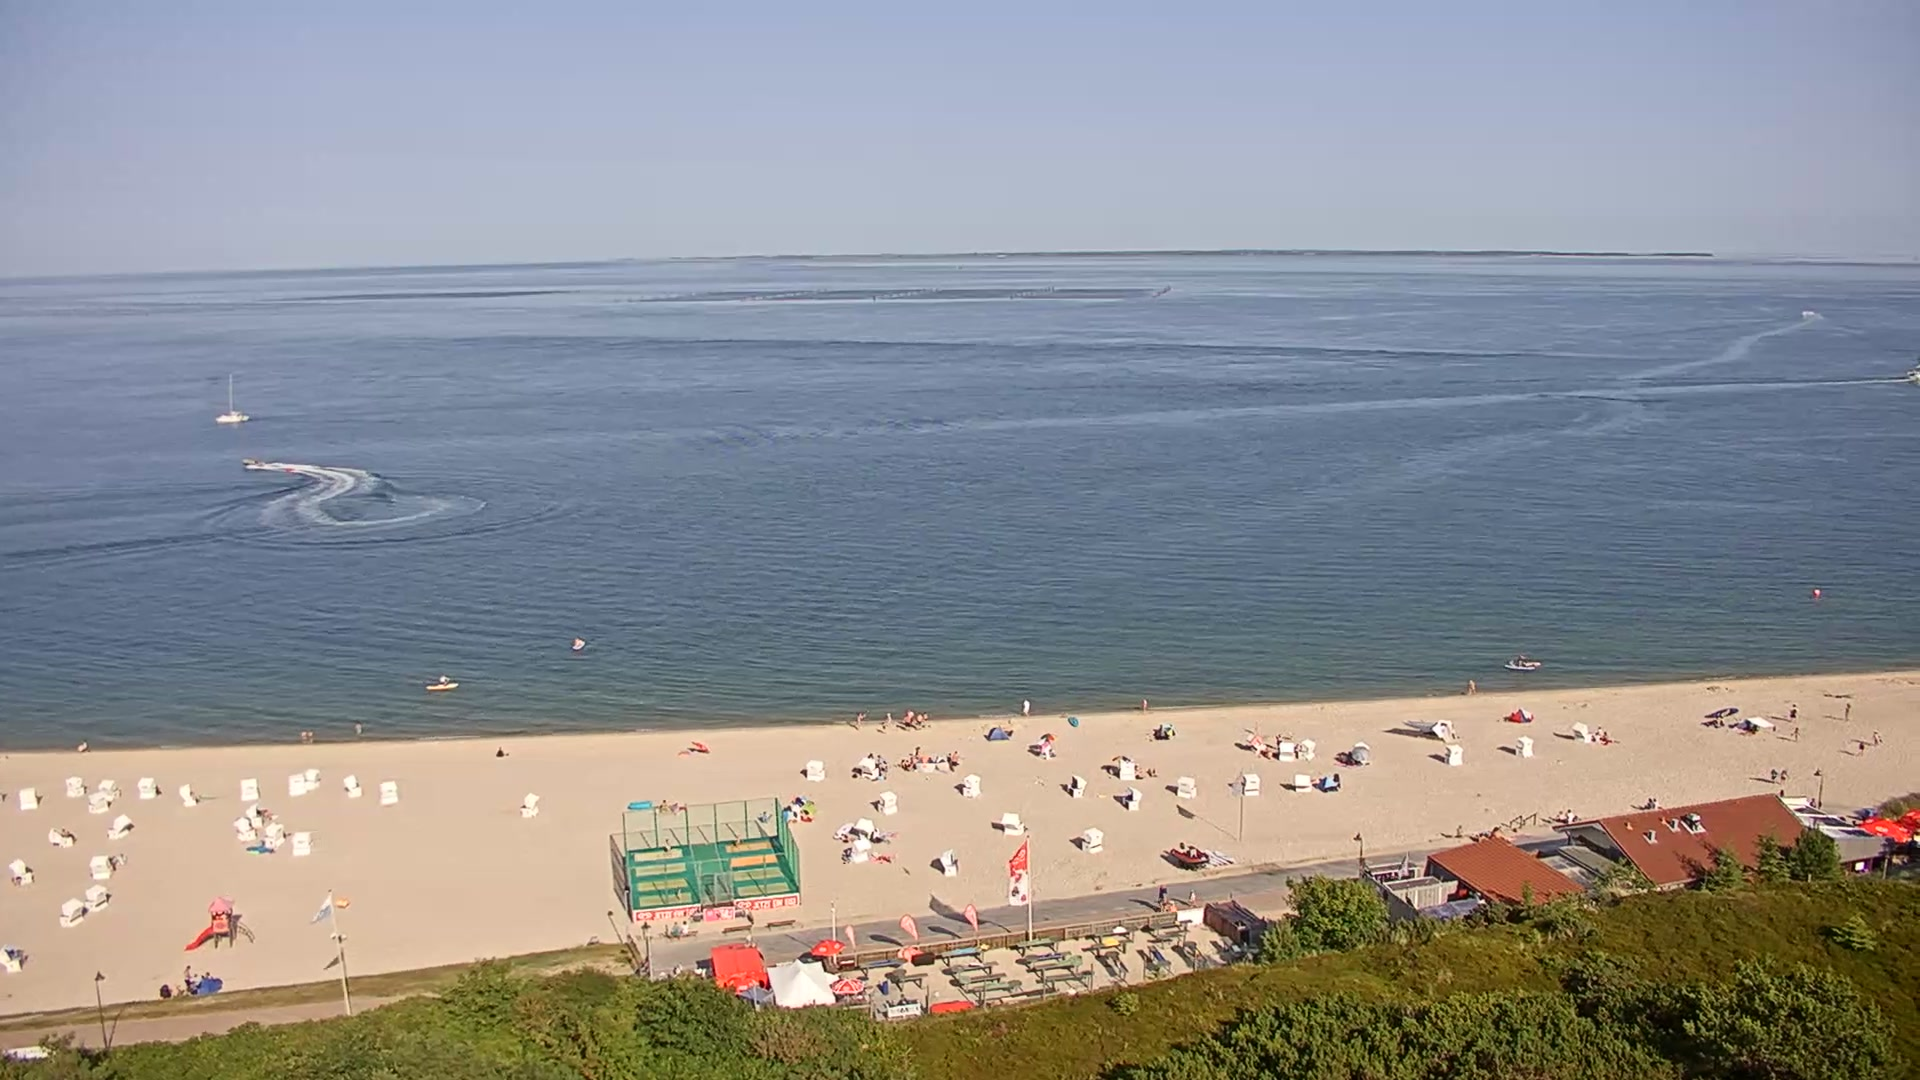human: (182, 962, 192, 991), (1156, 883, 1169, 908), (854, 709, 867, 730), (897, 992, 908, 1013), (903, 708, 916, 727), (874, 753, 883, 779), (881, 711, 893, 731), (1465, 678, 1477, 697), (1788, 701, 1799, 723), (670, 920, 680, 939), (1187, 887, 1197, 906), (1594, 724, 1605, 743), (1856, 739, 1866, 757), (191, 972, 201, 993), (1022, 697, 1031, 717), (1843, 700, 1851, 723), (1790, 727, 1801, 741), (354, 720, 364, 736), (881, 759, 889, 780), (1779, 769, 1789, 784), (1871, 730, 1882, 746), (681, 919, 690, 936), (1140, 696, 1149, 713), (1770, 768, 1779, 785), (76, 738, 88, 752), (1555, 808, 1566, 822), (201, 970, 214, 982), (1565, 807, 1575, 823), (495, 746, 506, 758), (1455, 823, 1464, 838), (952, 748, 959, 768), (947, 751, 954, 771), (916, 711, 924, 727), (659, 798, 668, 811), (759, 810, 769, 823), (299, 728, 307, 742), (922, 710, 929, 727), (1644, 796, 1653, 808), (1808, 797, 1817, 808), (307, 729, 315, 743), (1602, 730, 1610, 744), (1652, 797, 1659, 809), (1275, 734, 1280, 749)
sea: (215, 372, 250, 423), (1168, 839, 1209, 867), (1503, 653, 1543, 671), (424, 670, 459, 690), (241, 454, 282, 469), (570, 632, 585, 651)
